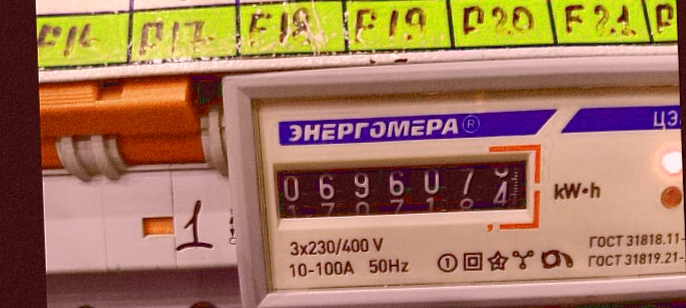0: (280, 173, 302, 203), (422, 166, 442, 196)
4: (489, 179, 509, 208)
6: (386, 168, 407, 199), (316, 171, 336, 201)
7: (456, 164, 476, 196)
9: (351, 170, 372, 200)
screen: (261, 137, 547, 240)
